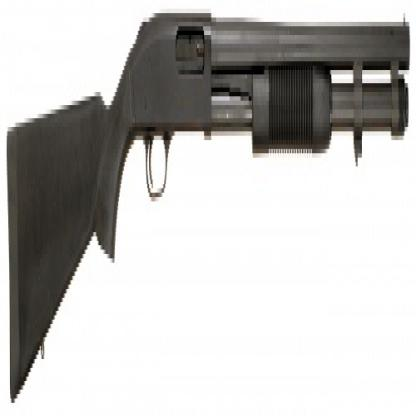Gun: (0, 0, 415, 412)
